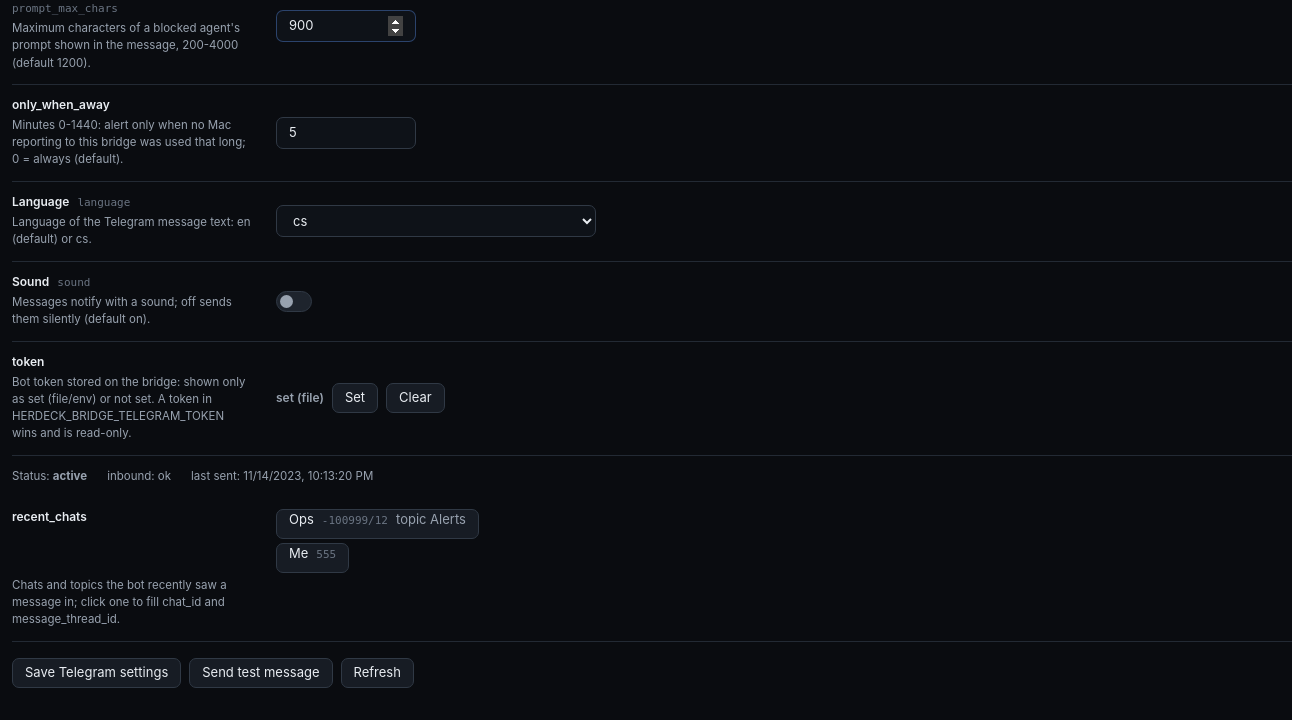
Test: bridge form › 409 reloads the config and says it changed elsewhere
(page scrolled)
Step 1. Click the button "Save Telegram settings" → (97, 673), box [12, 658, 181, 688]
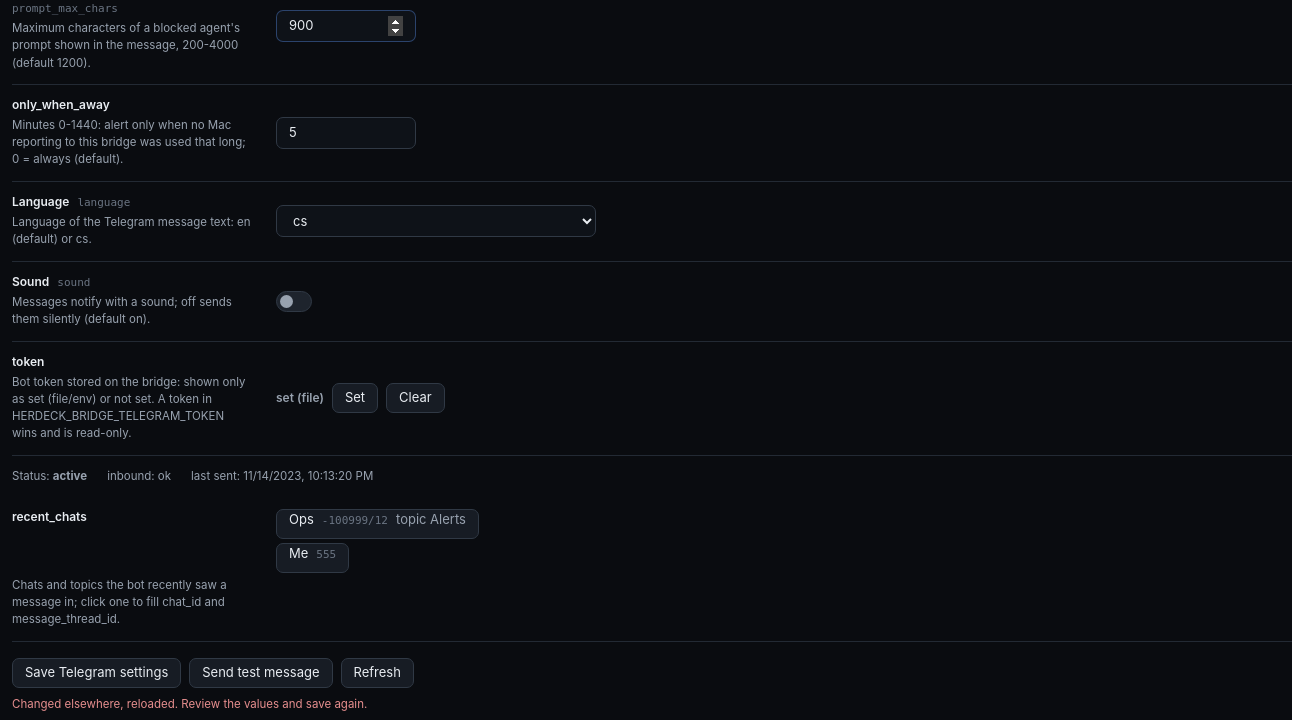
expect the message "Changed elsewhere, reloaded. Review the values and save again." is shown: met, box [12, 697, 367, 711]
